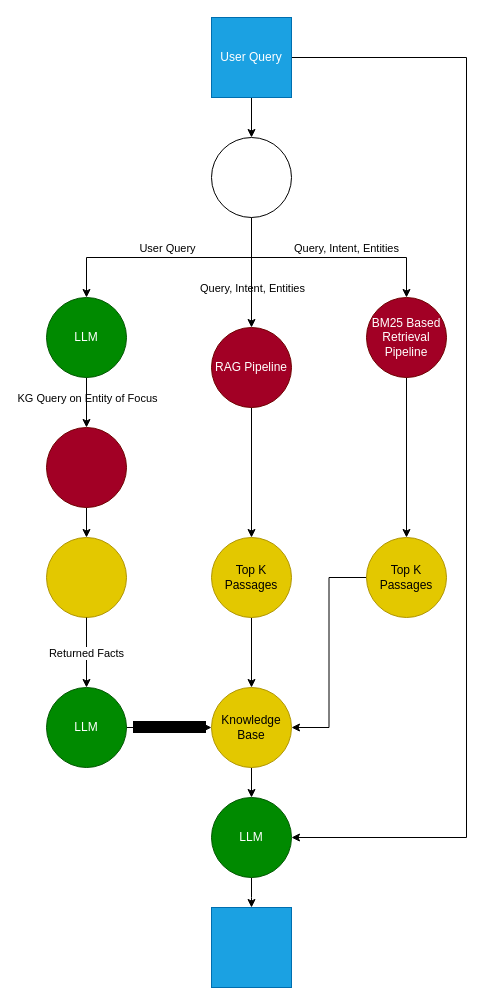
The diagram is 492 pixels wide and 1005 high, and some of its shapes have lost their labels. The centre of each missing label's shape, as x and y in pixels:
Driver Code: (x=251, y=177)
Facts: (x=86, y=577)
KG: (x=86, y=467)
Natural Language Response: (x=251, y=947)
